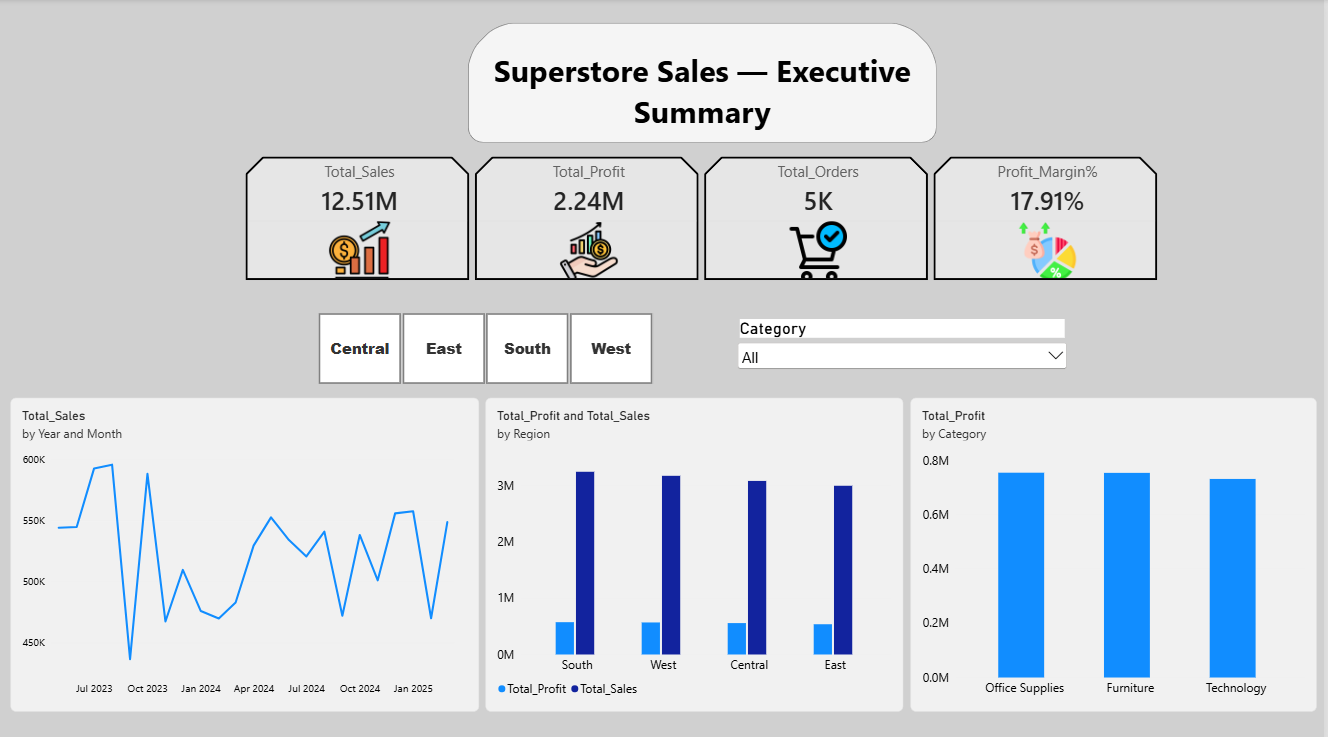

The dashboard page shown, as its layout file describes it:
{"tool":"powerbi","page":{"name":"Executive Summary","canvas":[1920,1080],"ordinal":0},"visuals":[{"type":"cardVisual","fields":{"Data":["superstore_db sales.Total_Sales","superstore_db sales.Total_Profit","superstore_db sales.Total_Orders","superstore_db sales.Profit_Margin%"]},"box":[358.3,228,1323.5,179.1],"z":0},{"type":"lineChart","fields":{"Category":["superstore_db sales.Order_Date.Variation.Date Hierarchy.Year","superstore_db sales.Order_Date.Variation.Date Hierarchy.Month"],"Y":["superstore_db sales.Total_Sales"]},"box":[18.1,577.3,678.6,454.2],"z":1000},{"type":"clusteredColumnChart","fields":{"Category":["superstore_db sales.Category"],"Y":["superstore_db sales.Total_Profit"]},"box":[1321.1,577.3,588.1,454.2],"z":2000},{"type":"clusteredColumnChart","fields":{"Category":["superstore_db sales.Region"],"Y":["superstore_db sales.Total_Profit","superstore_db sales.Total_Sales"]},"box":[705.8,577.3,604.4,454.2],"z":3000},{"type":"slicer","fields":{"Values":["superstore_db sales.Region"]},"box":[443.4,452.4,523,106.8],"z":4000},{"type":"slicer","fields":{"Values":["superstore_db sales.Category"]},"box":[1065.9,463.3,486.8,81.4],"z":5000},{"type":"shape","title":"Superstore Sales — Executive Summary","box":[680.4,34.4,678.6,173.7],"z":6000}]}

Visuals, with their boxes in screenshot pixels (x1, y1, x2, y2), scaled from the page's 1920x1080 canvas onto the 1328x737 screenshot:
cardVisual - superstore_db sales.Total_Sales x superstore_db sales.Total_Profit: (x1=248, y1=156, x2=1163, y2=278)
lineChart - superstore_db sales.Order_Date.Variation.Date Hierarchy.Year x superstore_db sales.Order_Date.Variation.Date Hierarchy.Month: (x1=13, y1=394, x2=482, y2=704)
clusteredColumnChart - superstore_db sales.Category x superstore_db sales.Total_Profit: (x1=914, y1=394, x2=1321, y2=704)
clusteredColumnChart - superstore_db sales.Region x superstore_db sales.Total_Profit: (x1=488, y1=394, x2=906, y2=704)
slicer - superstore_db sales.Region: (x1=307, y1=309, x2=668, y2=382)
slicer - superstore_db sales.Category: (x1=737, y1=316, x2=1074, y2=372)
"Superstore Sales — Executive Summary" shape: (x1=471, y1=23, x2=940, y2=142)
